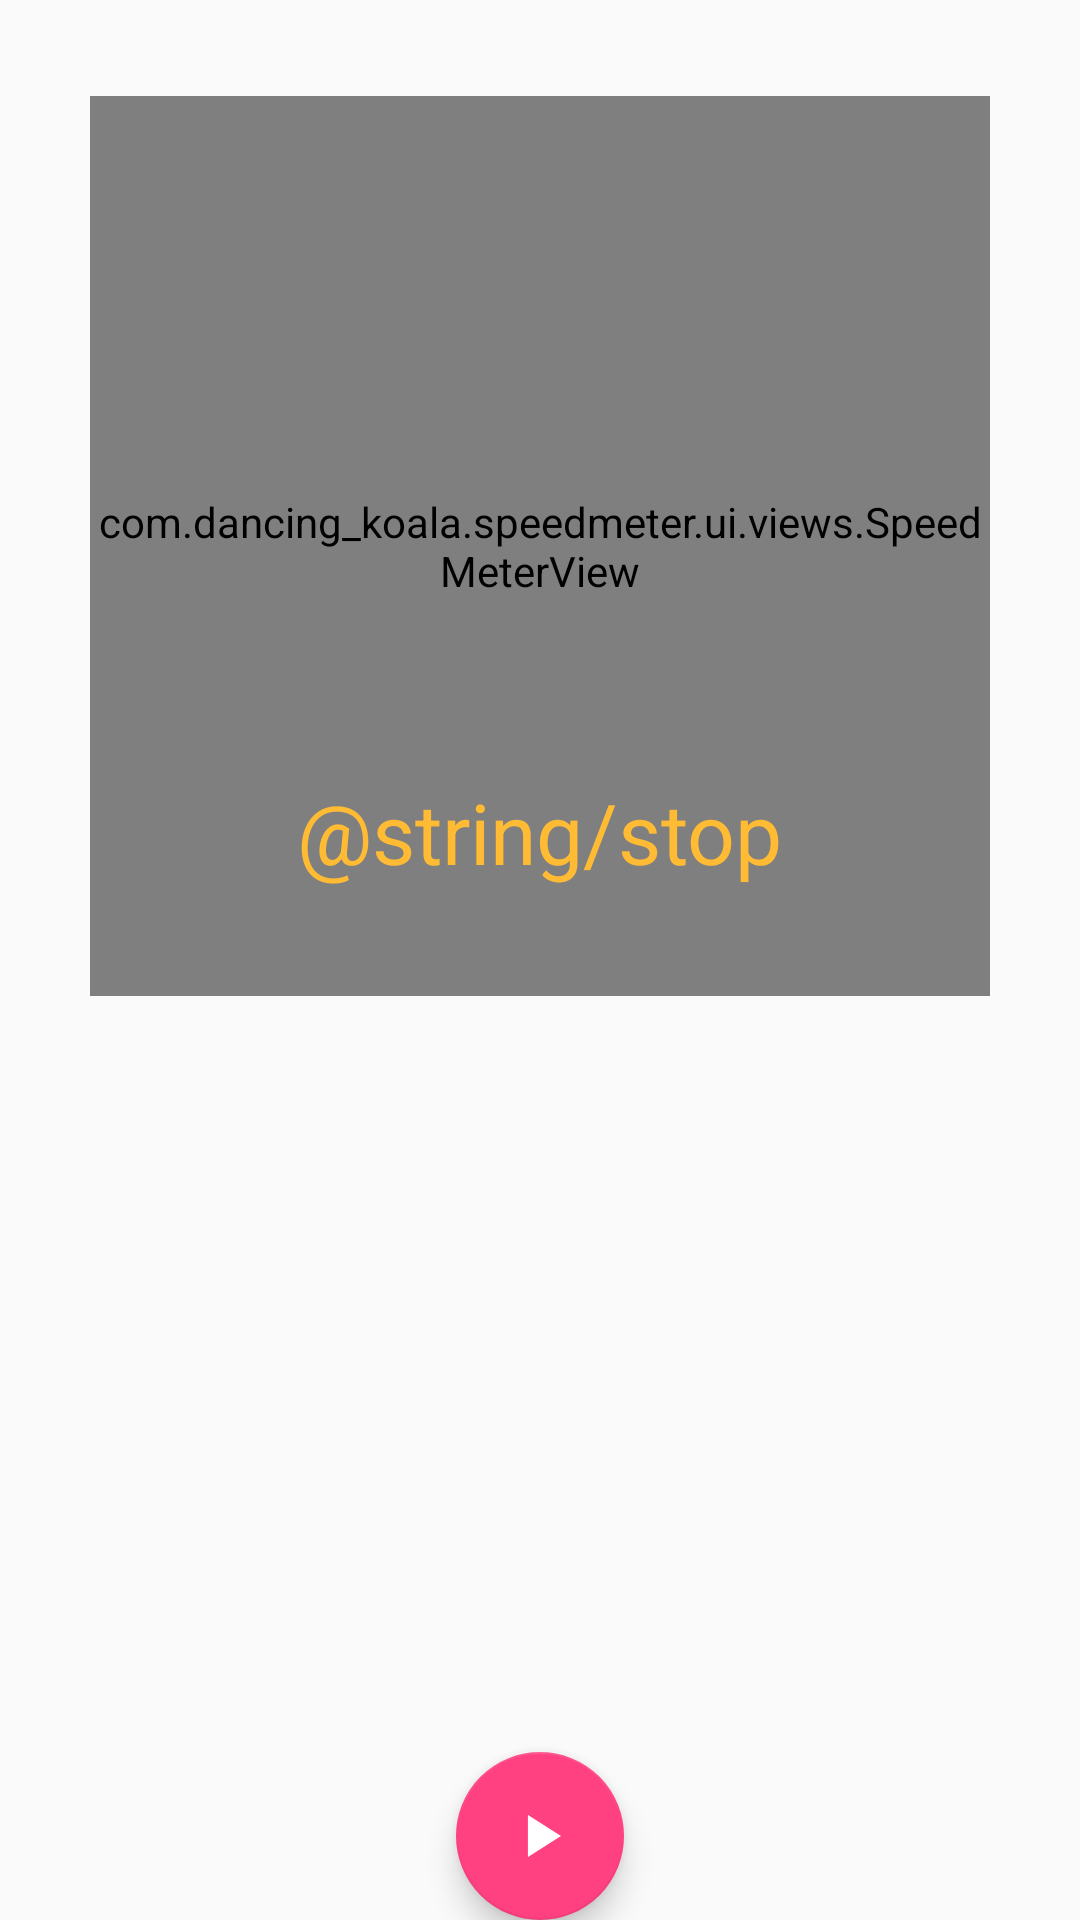

Where to tap for icons on this 1080 × 1920 app screen, as (x,y):
play: (540,1836)
